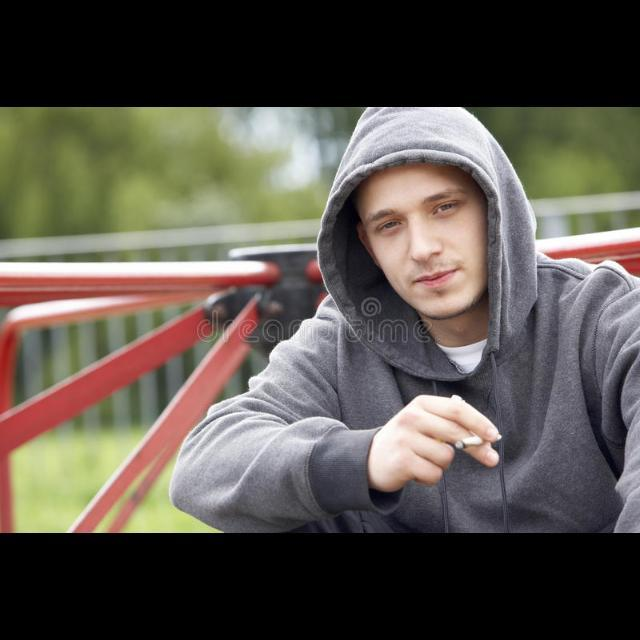rokok: (452, 432, 484, 452)
